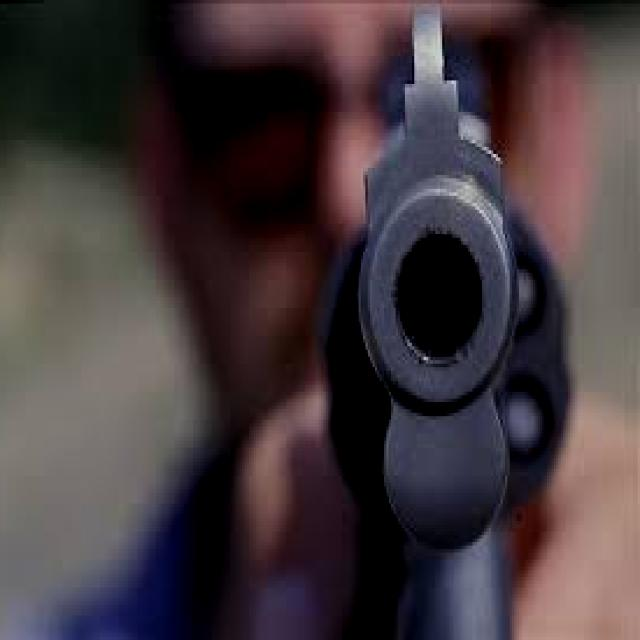pistol: (319, 7, 577, 630)
